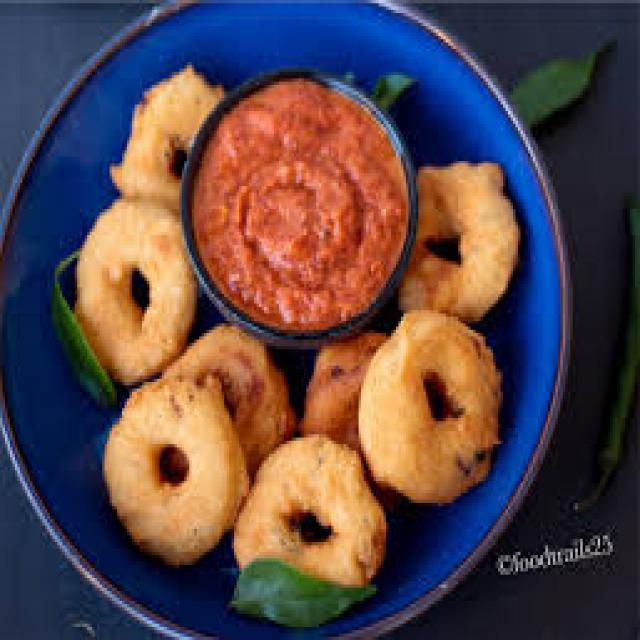MEDU VADA: (356, 311, 496, 495), (113, 374, 241, 568), (223, 439, 373, 582), (79, 203, 190, 383), (404, 160, 522, 322), (168, 326, 296, 460), (118, 71, 217, 238), (168, 329, 280, 461)
